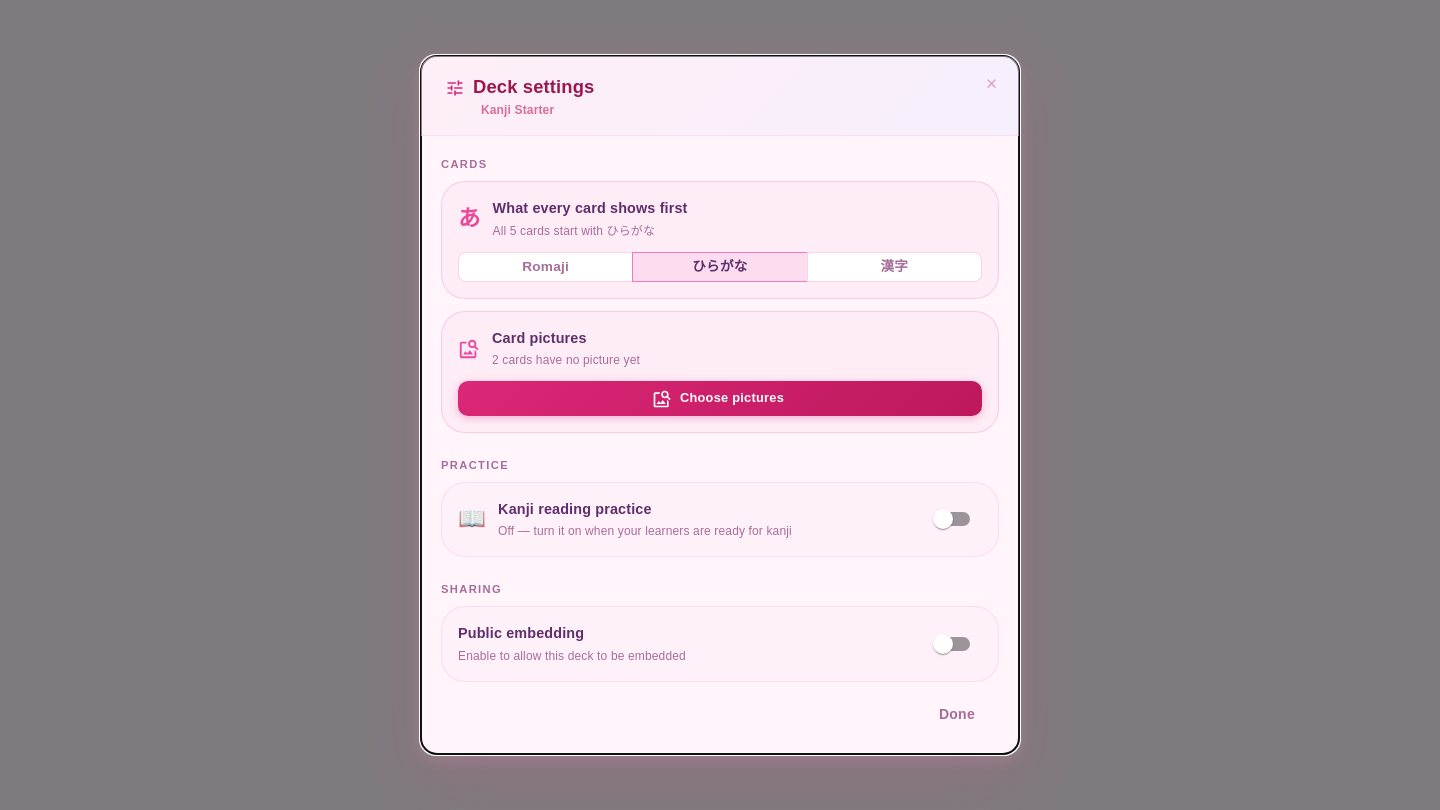
Test: DeckSettingsDialog › says how many cards still need a picture
Expected: the text "2 cards have no picture yet" is shown, 492,351 -> 640,369
Click the button "Choose pictures".
click(720, 399)  # box 458,381 -> 982,416
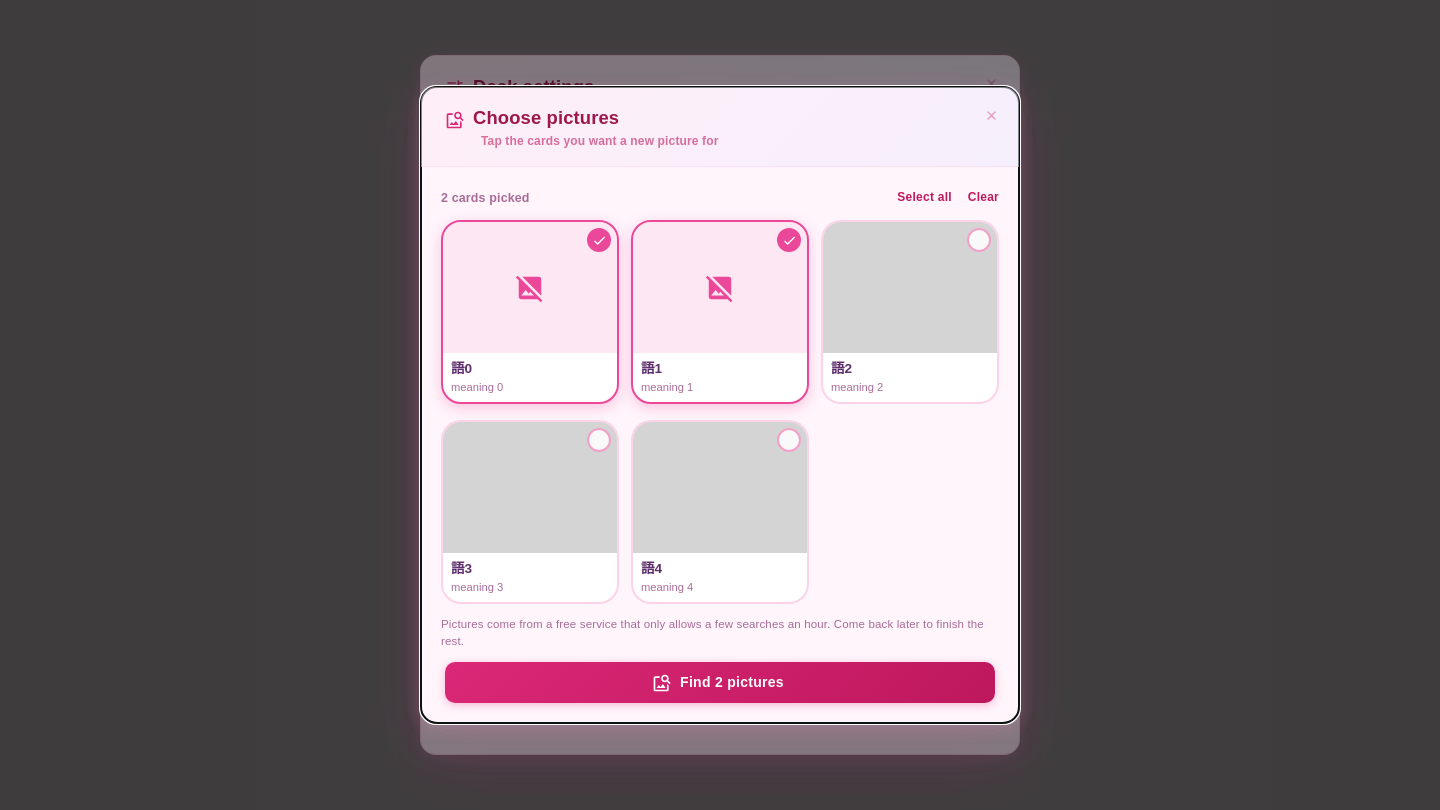
Expected: the button "Find 2 pictures" is enabled, 445,662 -> 995,703
